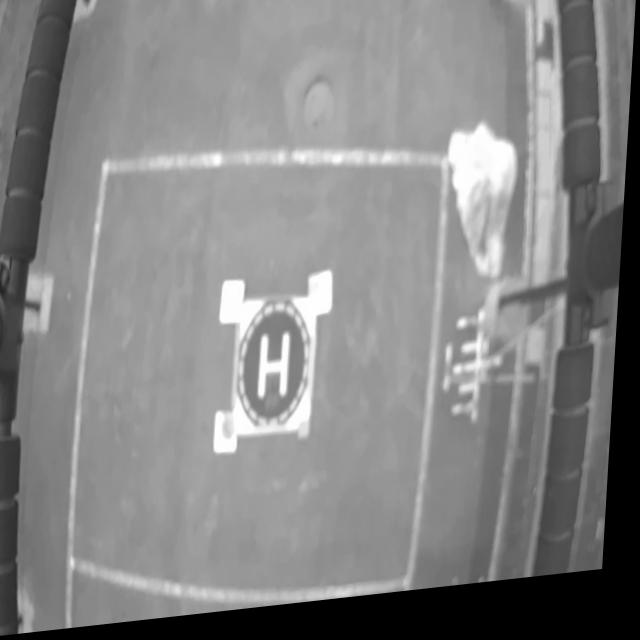Helipad: (262, 342, 295, 406)
